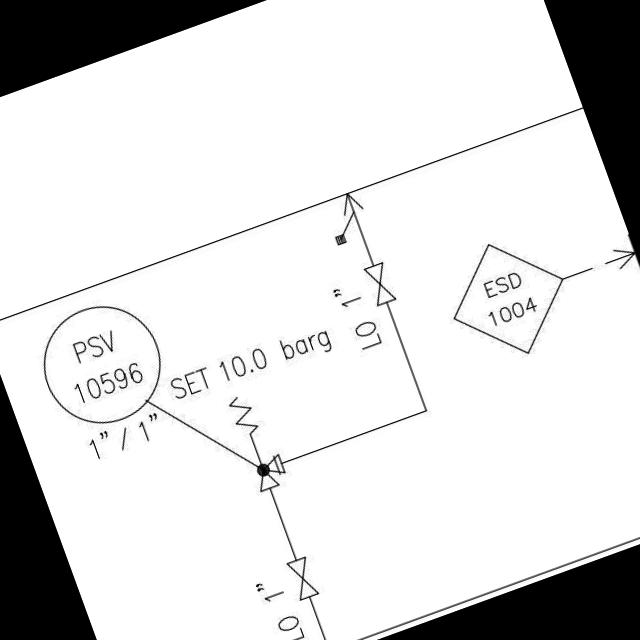GV: (278, 545, 326, 608), (358, 255, 400, 312)
RPV: (218, 382, 292, 495)
